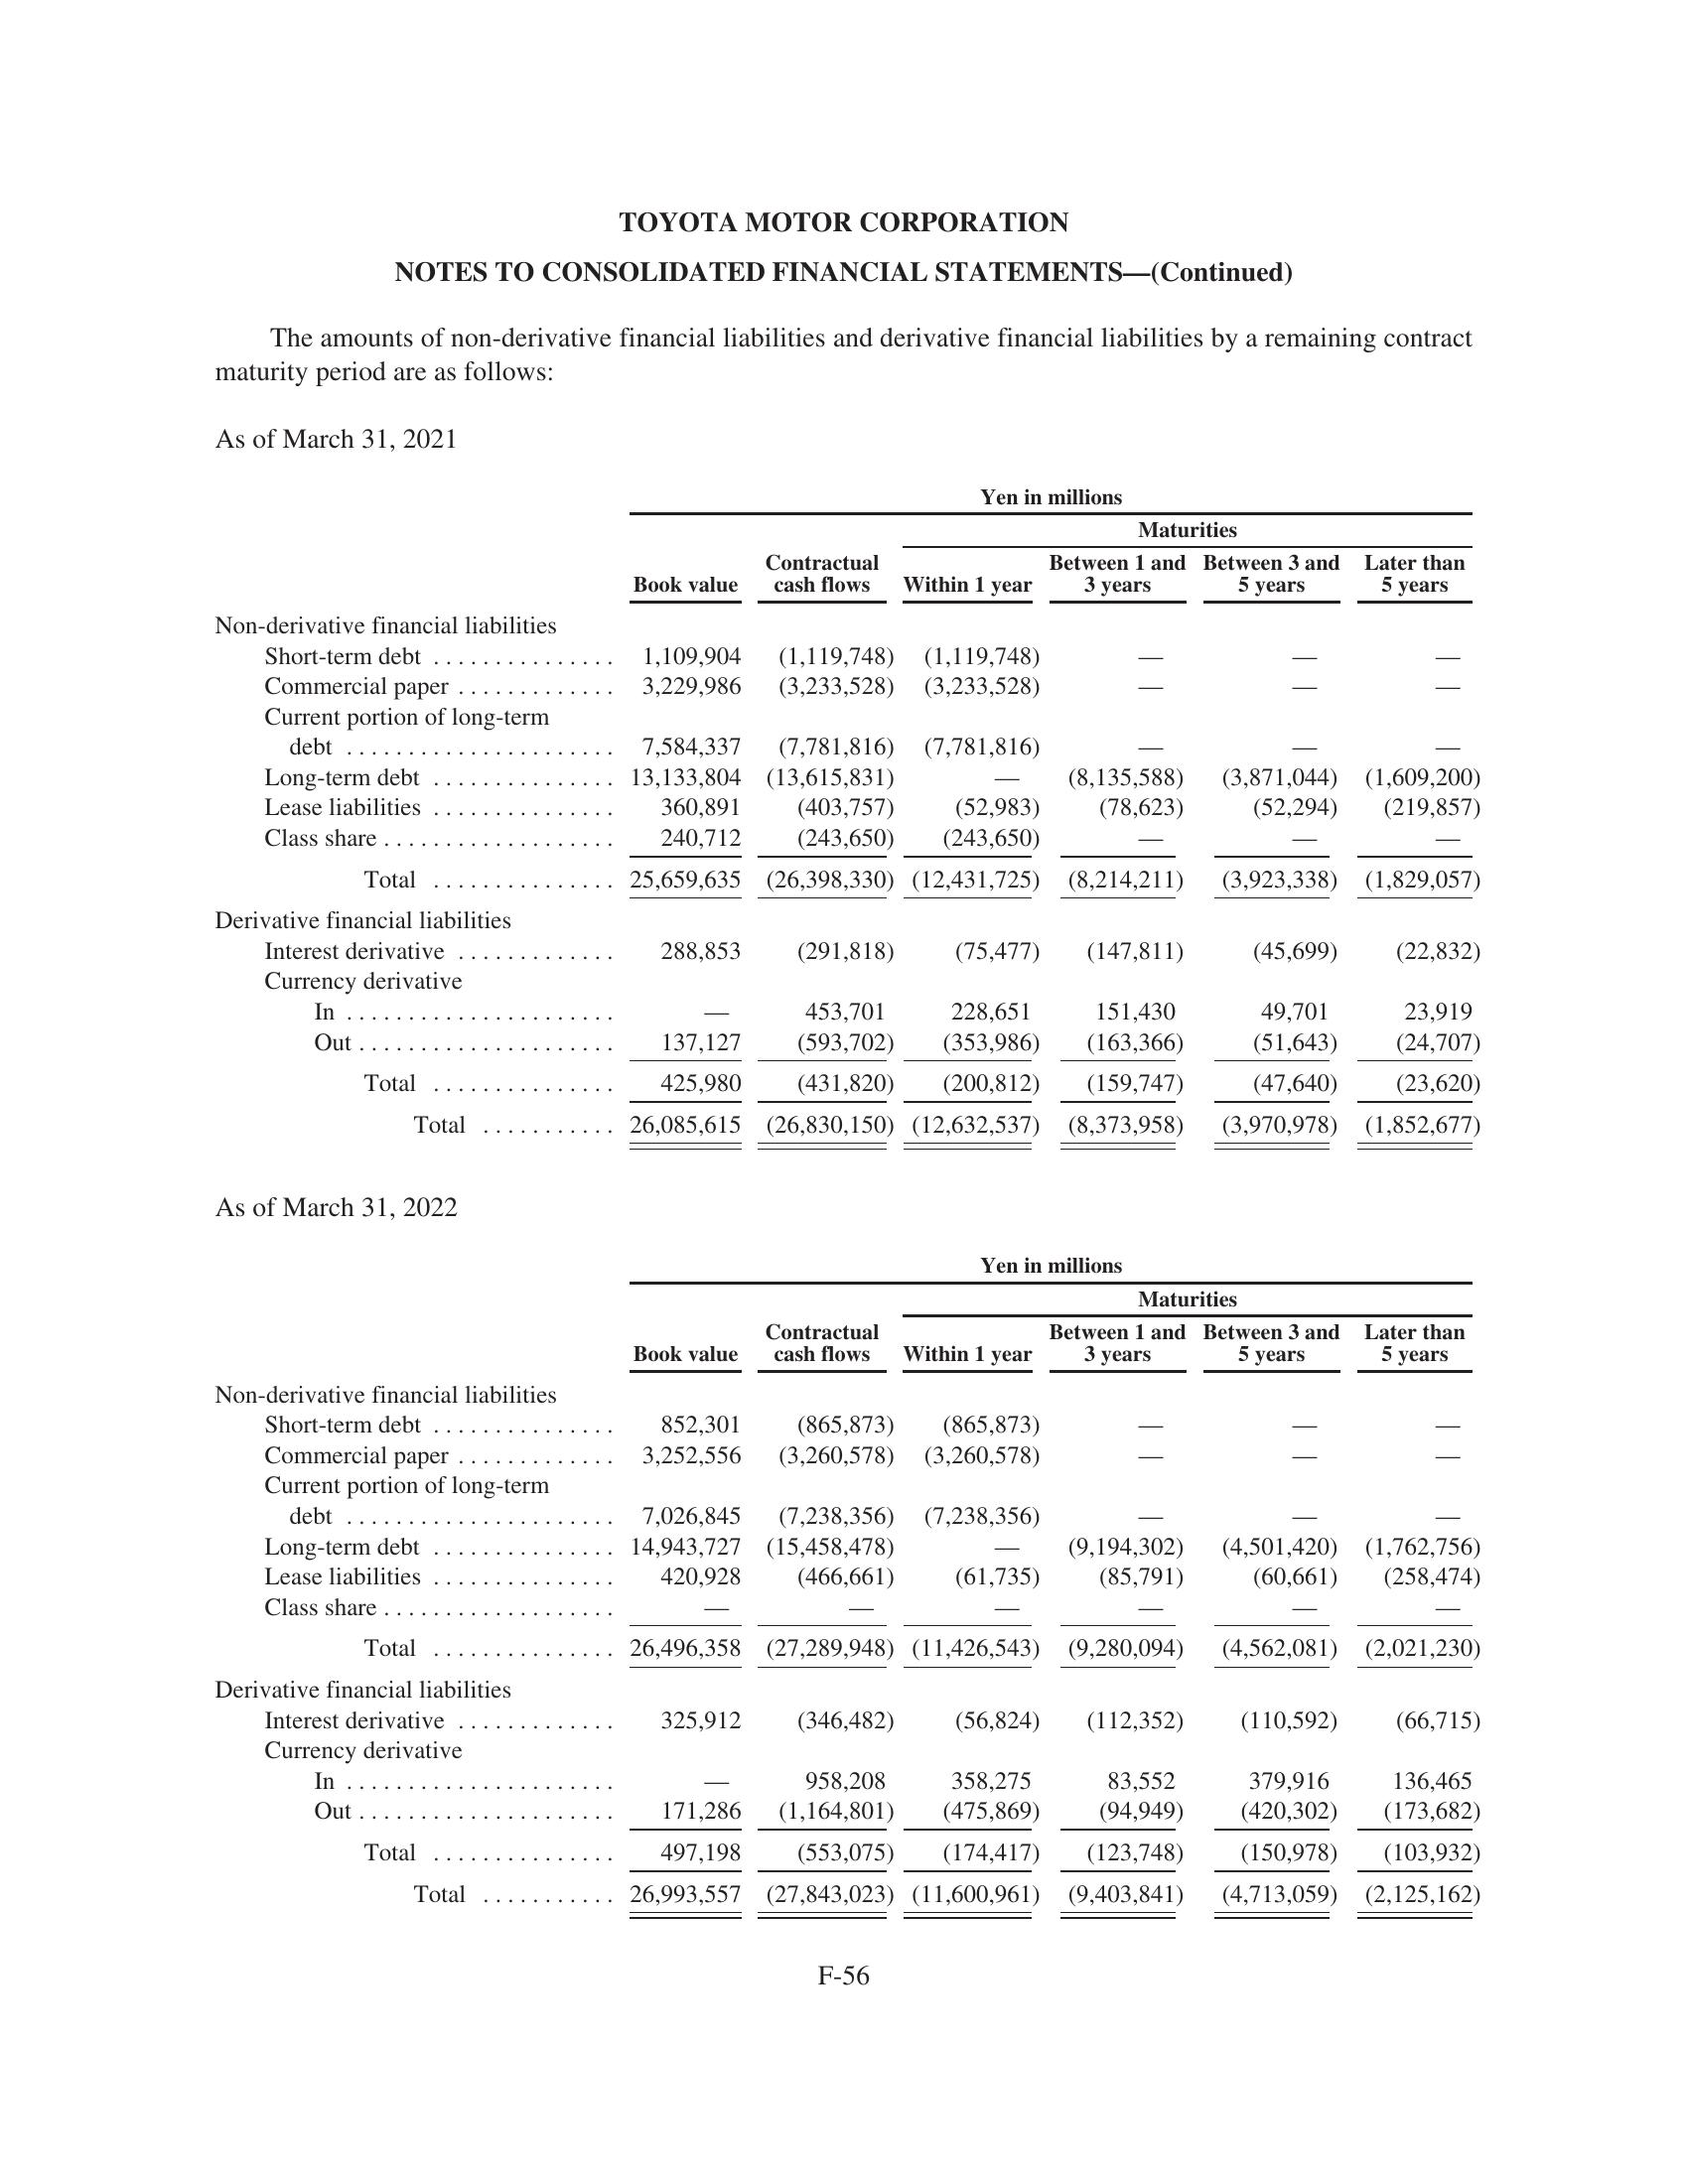Footer: (0, 1959, 1688, 2184)
Header: (0, 0, 1688, 175)
Table: (151, 1252, 1528, 1941), (137, 468, 1512, 1149)
